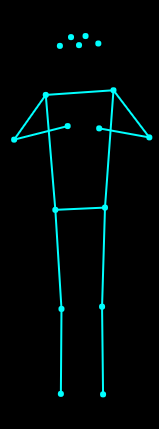mountain: (6, 25, 154, 400)
